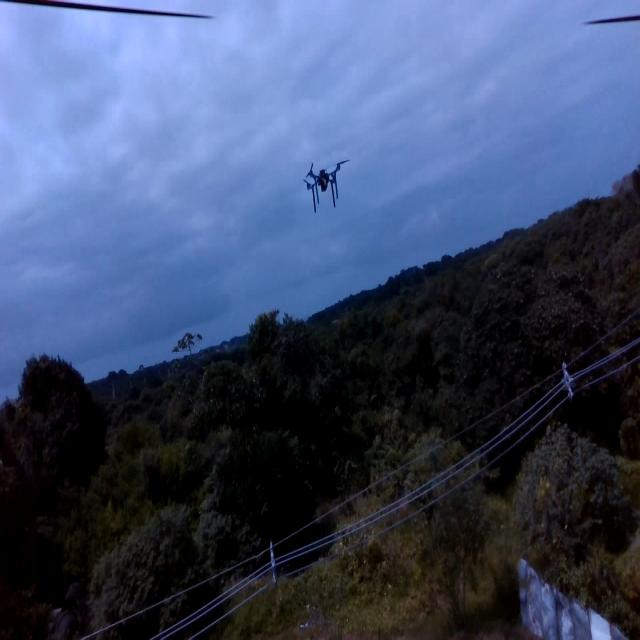-uav-: (299, 148, 351, 218)
